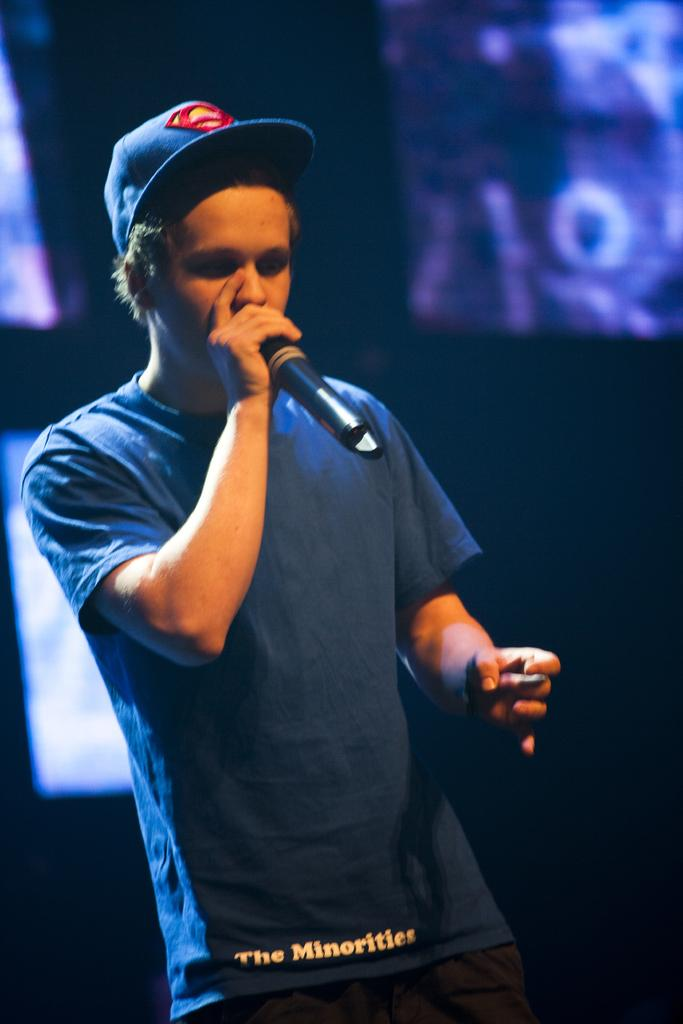Hat: (100, 92, 321, 258)
